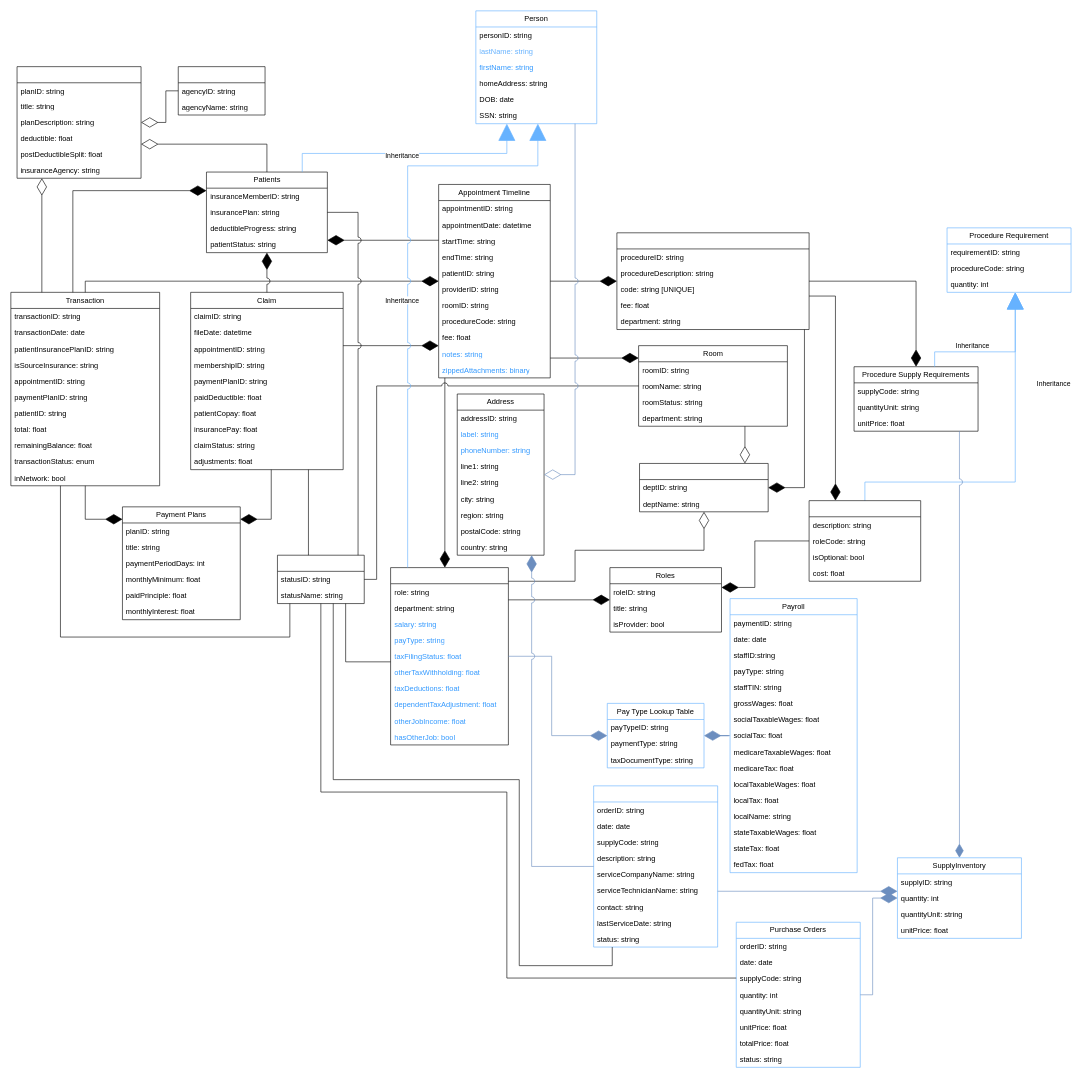
The diagram is 1082 pixels wide and 1080 high, and some of its shapes have lost their labels. Each missing label, with the box of its shape:
Department: (639, 463, 768, 512)
Insurance Agency: (178, 66, 265, 115)
Insurance Plan: (16, 66, 141, 178)
Procedure Role Requirements: (808, 500, 921, 581)
Procedure Timeline: (616, 232, 809, 330)
Staff: (390, 567, 508, 745)
Status Lookup Table: (277, 555, 364, 604)
Work Orders: (593, 785, 718, 947)
